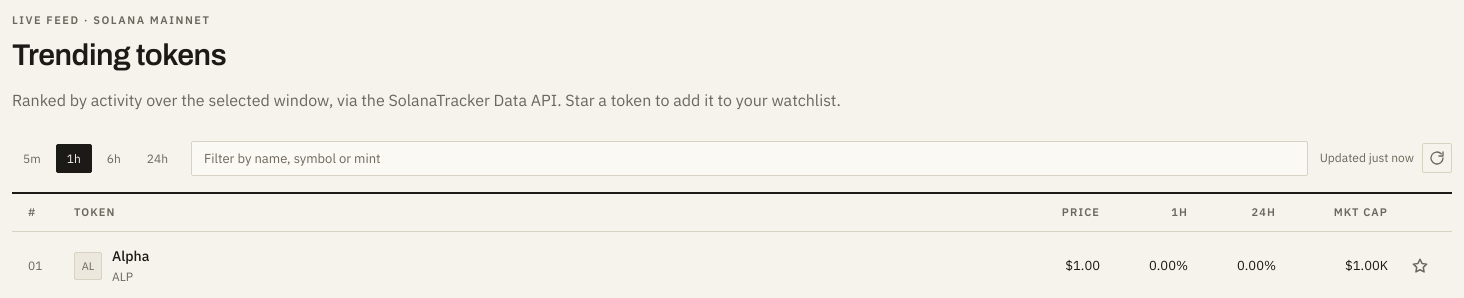
Trending page › fetches the selected timeframe when a tab is clicked
The image size is (1464, 298).
Expected: the text "Alpha" is shown, [112,246,149,268]
Step 1. Click the tab "24h" → coordinates (157, 158), box [136,144,179,173]
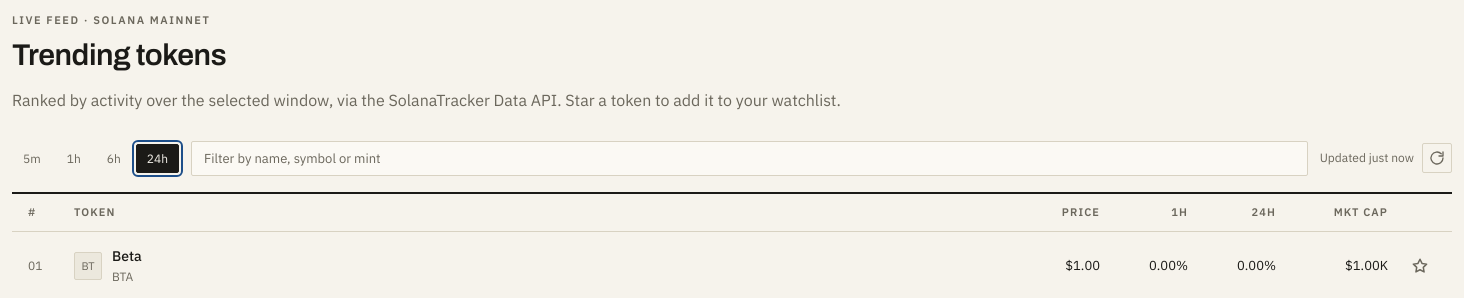
Expected: the text "Beta" is shown, [112,246,142,268]
Expected: the link "Alpha" is gone
